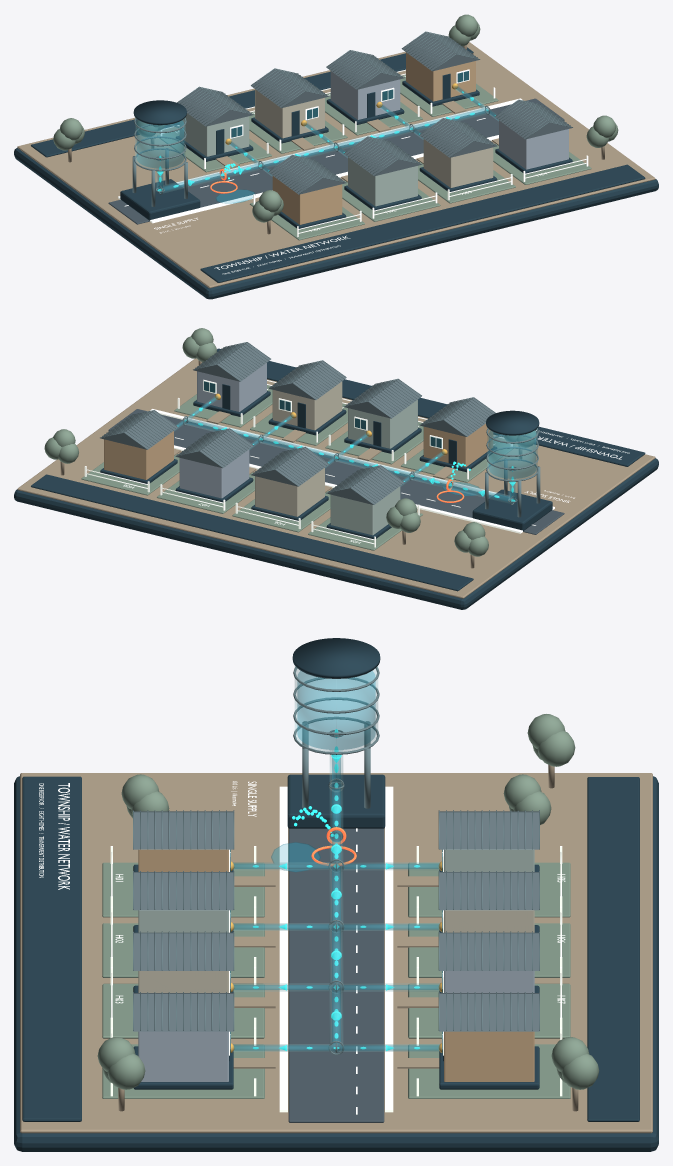
File: municipal-water-network.glb
The picture shows the model from 3 angles, top to bottom: view 1: azimuth 30°, elevation 25°; view 2: azimuth 150°, elevation 25°; view 3: azimuth 270°, elevation 25°; orthographic projection. The views are drawn at different scales.
Parts seen in each view (by area): view 1: Township ground, Title strip, Exhibition plinth, Central street, Status strip, H03 plaster walls, H04 plaster walls, H02 plaster walls, H01 plaster walls, Reservoir transparent tank, Reservoir pedestal, H06 plaster walls (+30 smaller); view 2: Township ground, Exhibition plinth, Status strip, Central street, Title strip, H07 plaster walls, H06 plaster walls, H08 plaster walls, H05 plaster walls, Reservoir transparent tank, Reservoir pedestal, H02 plaster walls (+30 smaller); view 3: Township ground, Central street, Title strip, Status strip, Exhibition plinth, Reservoir transparent tank, Reservoir water, Reservoir pedestal, H08 plaster walls, H04 plaster walls, H01 pitched roof, H02 pitched roof (+45 smaller).
Part boxes in pixels (left/top/right/bottom): Township ground: left=17, top=42, right=655, bottom=288; Title strip: left=200, top=164, right=645, bottom=282; Exhibition plinth: left=14, top=147, right=658, bottom=299; Central street: left=108, top=98, right=564, bottom=224; Status strip: left=31, top=47, right=473, bottom=157; H03 plaster walls: left=423, top=139, right=493, bottom=187; H04 plaster walls: left=499, top=120, right=568, bottom=169; H02 plaster walls: left=348, top=157, right=417, bottom=206; H01 plaster walls: left=272, top=176, right=342, bottom=224; Reservoir transparent tank: left=135, top=118, right=185, bottom=169; Reservoir pedestal: left=120, top=179, right=200, bottom=220; H06 plaster walls: left=255, top=89, right=324, bottom=138; Township ground: left=17, top=358, right=655, bottom=598; Exhibition plinth: left=14, top=458, right=658, bottom=609; Status strip: left=31, top=474, right=473, bottom=591; Central street: left=108, top=409, right=564, bottom=534; Title strip: left=202, top=348, right=645, bottom=466; H07 plaster walls: left=179, top=449, right=249, bottom=498; H06 plaster walls: left=255, top=468, right=324, bottom=516; H08 plaster walls: left=104, top=431, right=173, bottom=479; H05 plaster walls: left=330, top=486, right=400, bottom=535; Reservoir transparent tank: left=487, top=428, right=537, bottom=479; Reservoir pedestal: left=472, top=489, right=552, bottom=530; H02 plaster walls: left=348, top=399, right=417, bottom=448; Township ground: left=20, top=773, right=652, bottom=1133; Central street: left=288, top=828, right=384, bottom=1122; Title strip: left=22, top=776, right=81, bottom=1121; Status strip: left=587, top=777, right=639, bottom=1121; Exhibition plinth: left=14, top=776, right=658, bottom=1151; Reservoir transparent tank: left=295, top=666, right=377, bottom=751; Reservoir water: left=297, top=671, right=375, bottom=749; Reservoir pedestal: left=287, top=774, right=385, bottom=828; H08 plaster walls: left=444, top=1031, right=534, bottom=1081; H04 plaster walls: left=138, top=1031, right=228, bottom=1081; H01 pitched roof: left=133, top=811, right=233, bottom=849; H02 pitched roof: left=133, top=872, right=233, bottom=910.
Size of the model in its own units: 36 by 8.11 by 27.
